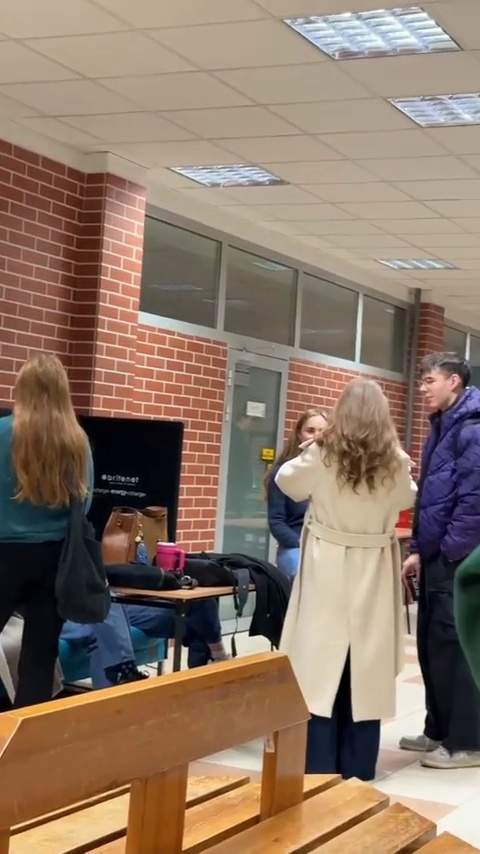no vest: (265, 365, 412, 727), (2, 337, 90, 730), (411, 339, 480, 729)
